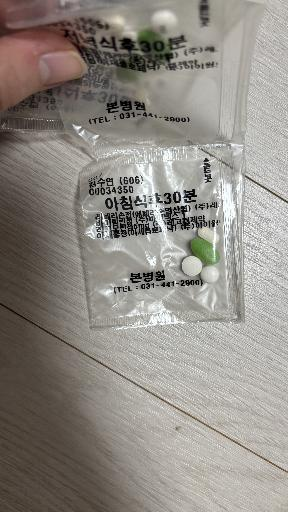Acecool: (182, 256, 202, 276)
BI-Tilin: (190, 238, 220, 265)
Lebamotin: (198, 227, 219, 245)
Leperisone: (200, 266, 219, 283)
vinyl: (44, 0, 263, 329), (80, 146, 242, 328)
